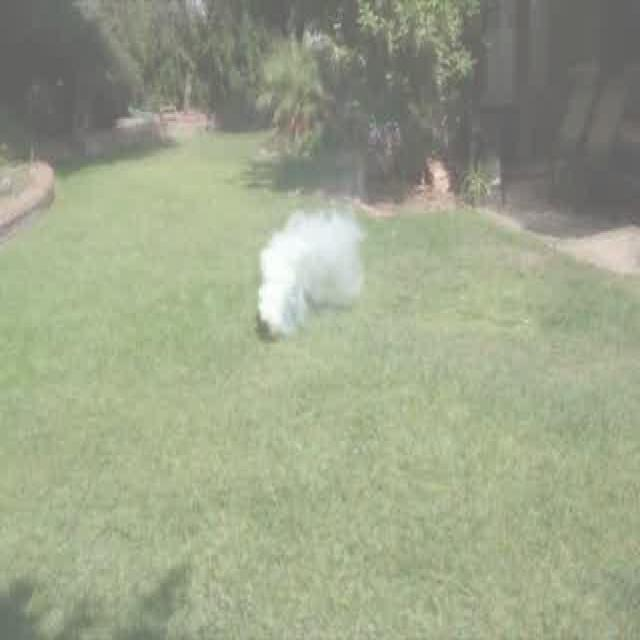Smoke: (256, 198, 368, 338)
